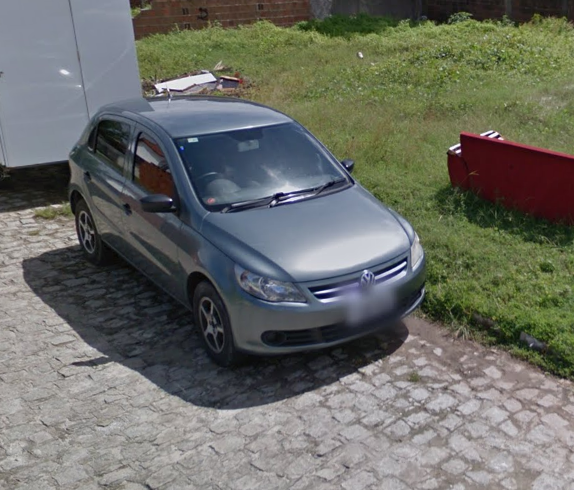car: (65, 81, 432, 372)
